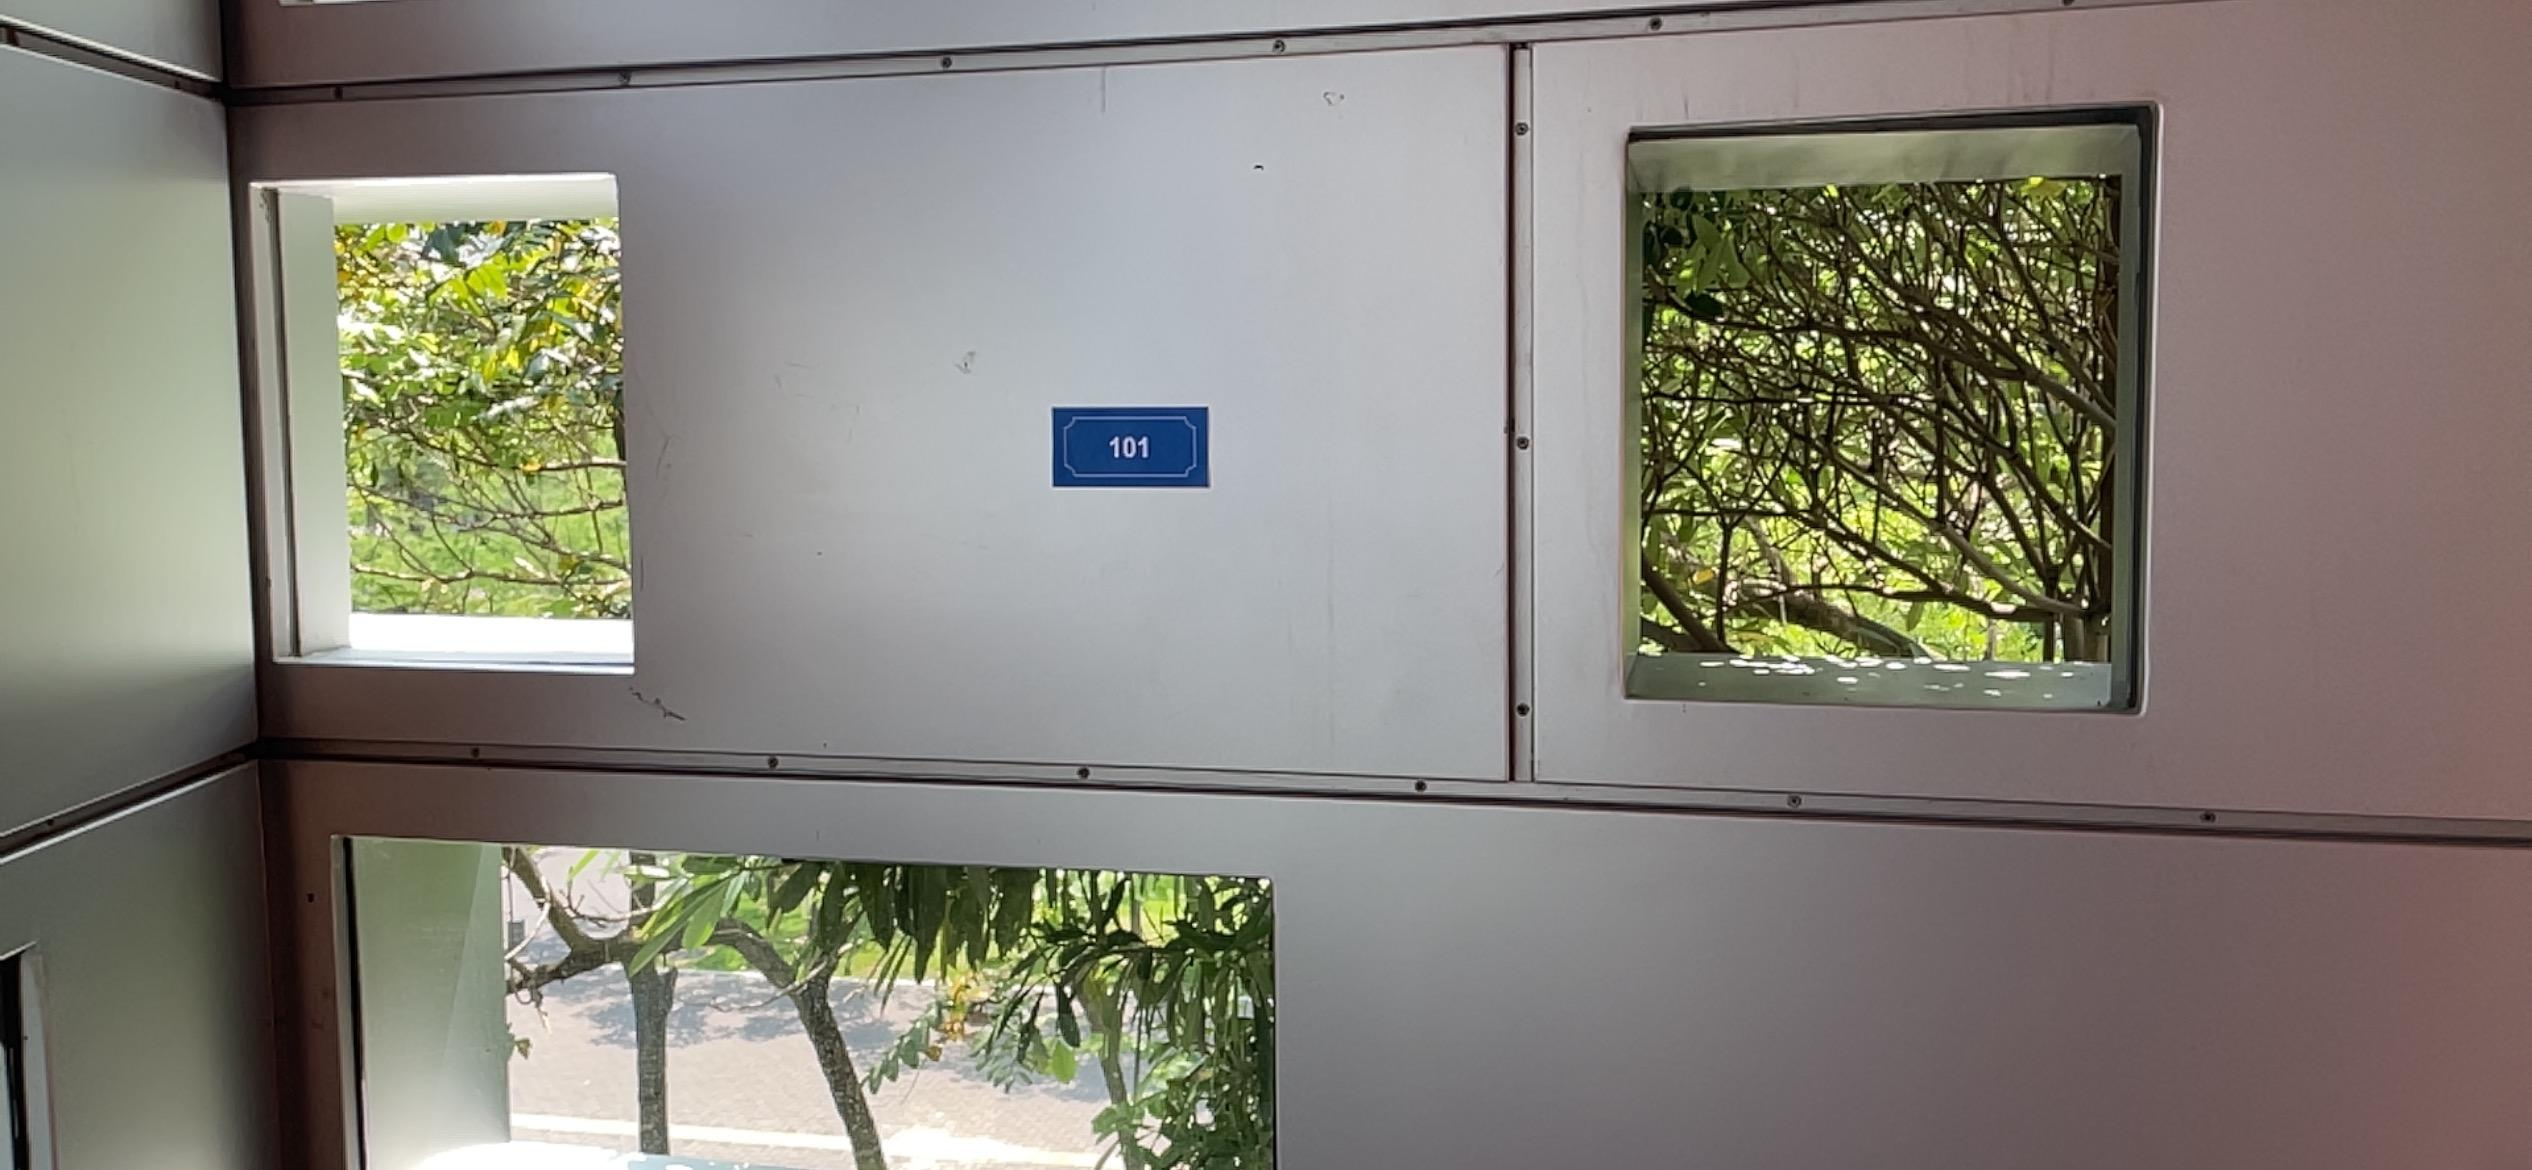Card: (1038, 383, 1221, 503)
